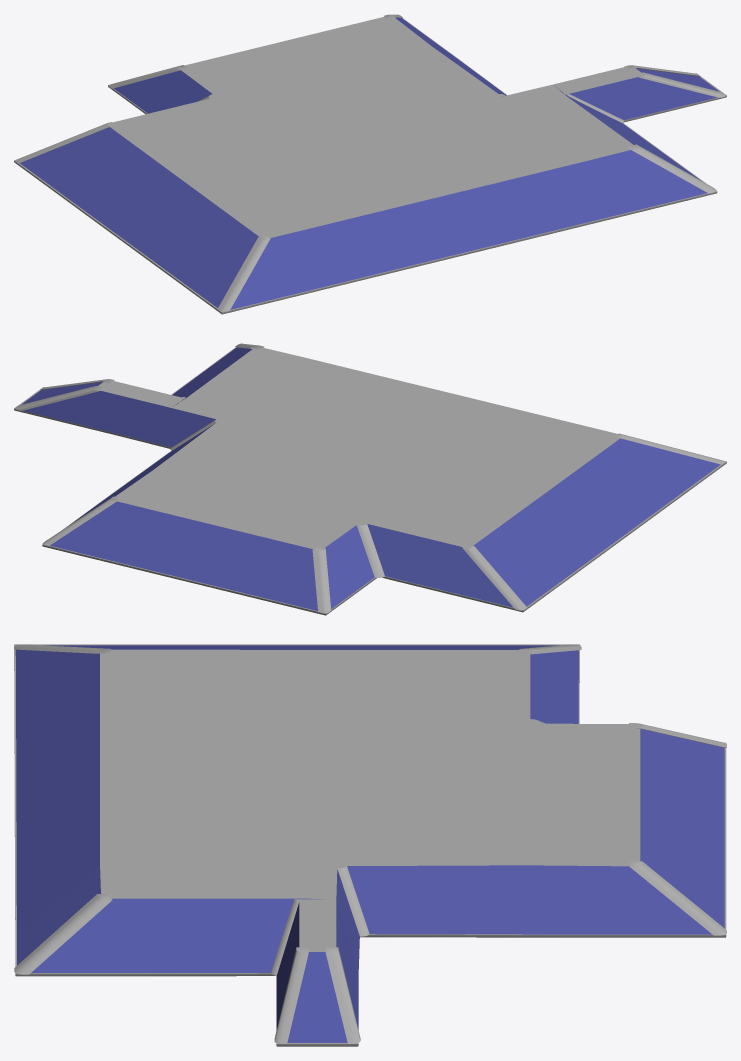
The model's file is refineroof.fbx.
3 renders of one model, top to bottom at view 1: azimuth 30°, elevation 25°; view 2: azimuth 150°, elevation 25°; view 3: azimuth 270°, elevation 25°, orthographic. The views are drawn at different scales.
Parts seen in each view (by area): view 1: roof3, pCube11, roof4; view 2: roof3, pCube11, roof4; view 3: roof3, pCube11, roof4.
Part boxes in pixels (x1,y1,x2,y2): roof3: [20, 16, 719, 309]; pCube11: [15, 14, 725, 311]; roof4: [14, 14, 726, 314]; roof3: [21, 347, 720, 610]; pCube11: [15, 343, 724, 613]; roof4: [14, 343, 726, 615]; roof3: [15, 645, 724, 1042]; pCube11: [14, 644, 726, 1043]; roof4: [14, 644, 726, 1046].
Bounding box in the file's own units: 2729 × 150 × 2058.
